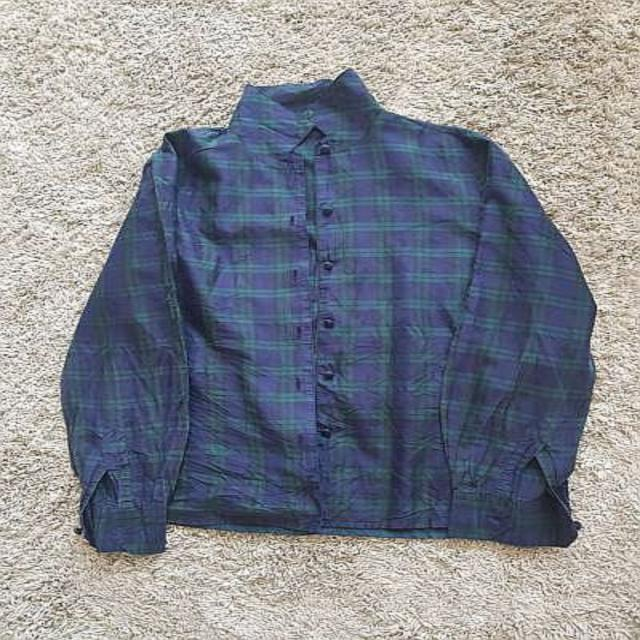SHIRT: (36, 62, 627, 566)
